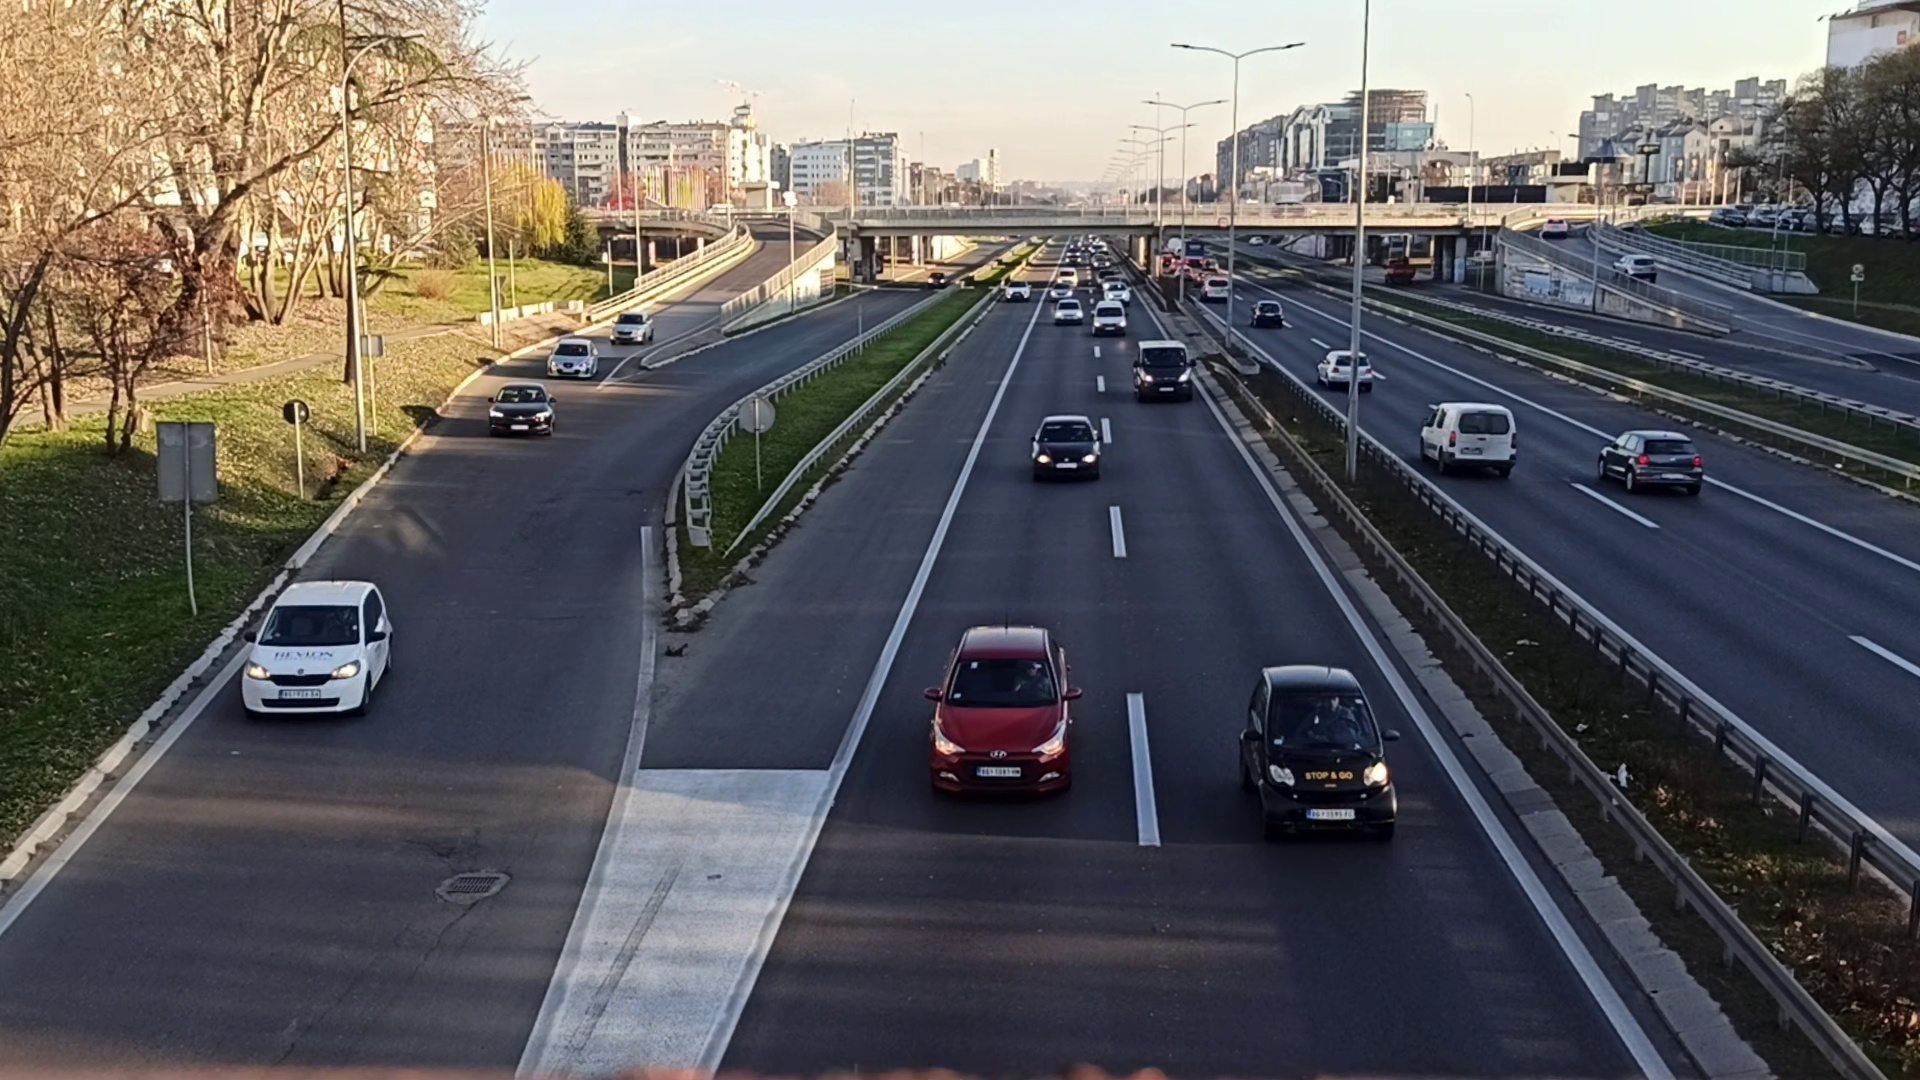car: (1240, 662, 1400, 855), (928, 621, 1076, 804), (239, 578, 396, 727), (1596, 425, 1704, 498), (1030, 414, 1100, 480), (487, 384, 555, 439), (1315, 348, 1374, 396), (547, 338, 597, 382), (608, 309, 655, 344), (1092, 301, 1125, 334), (1250, 299, 1284, 330), (1055, 299, 1084, 324)
van: (1420, 401, 1516, 473), (1131, 338, 1191, 402)
